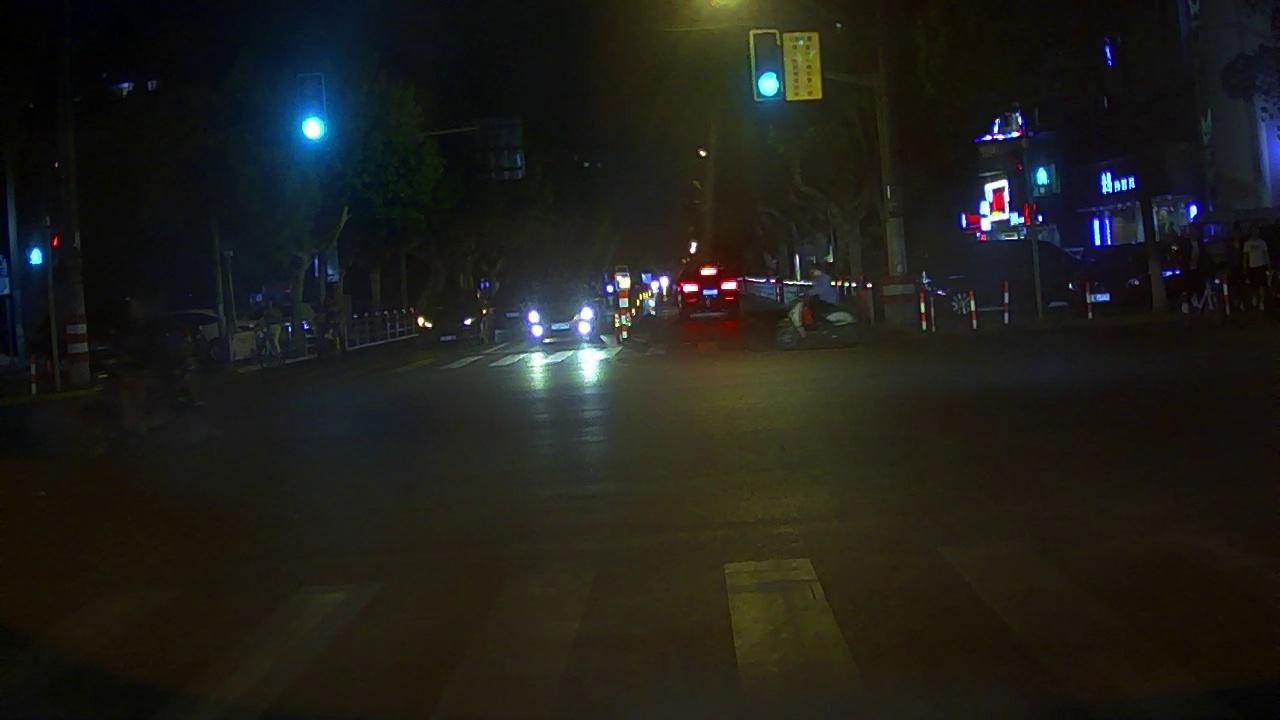traffic_light: (748, 27, 786, 103), (294, 74, 329, 146)
